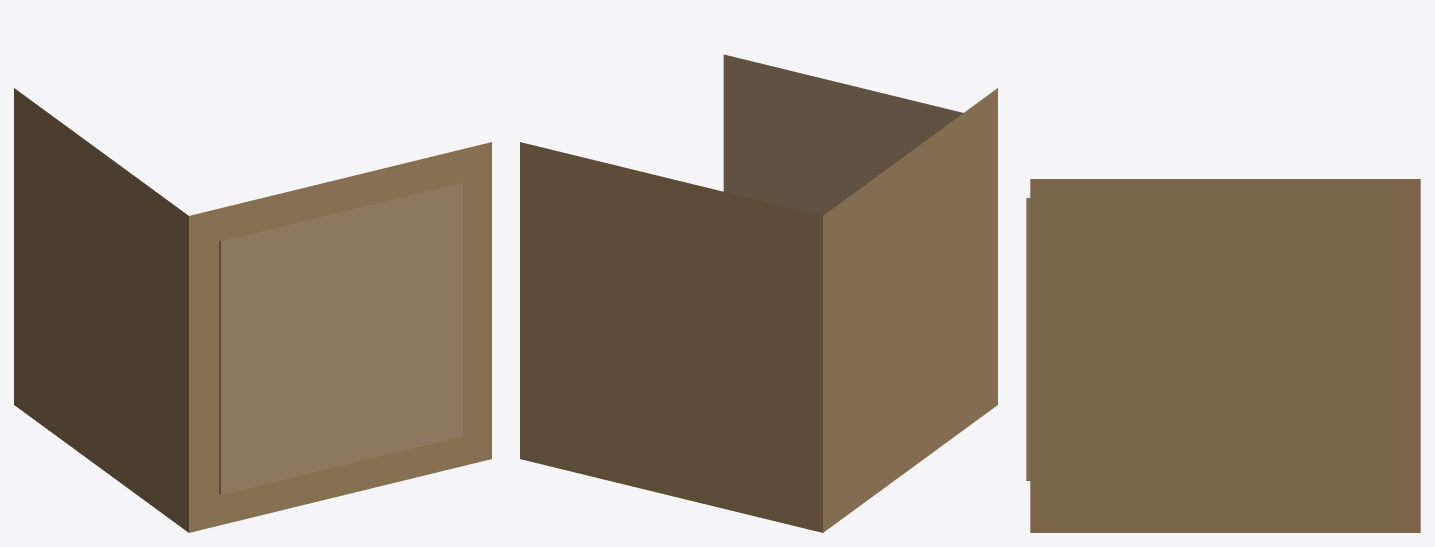
File: Wall-multicolor.glb
3 views of the same model, side by side, from view 1: azimuth 30°, elevation 25°; view 2: azimuth 150°, elevation 25°; view 3: azimuth 270°, elevation 25° (orthographic). The views are drawn at different scales.
Visible parts, largest first — view 1: Wall; view 2: Wall; view 3: Wall.
Boxes of the visible parts, <box> form: Wall: <box>14,88,491,532</box>; Wall: <box>520,54,997,532</box>; Wall: <box>1026,179,1420,532</box>.
Size of the model in its own units: 1 by 1 by 1.01.
